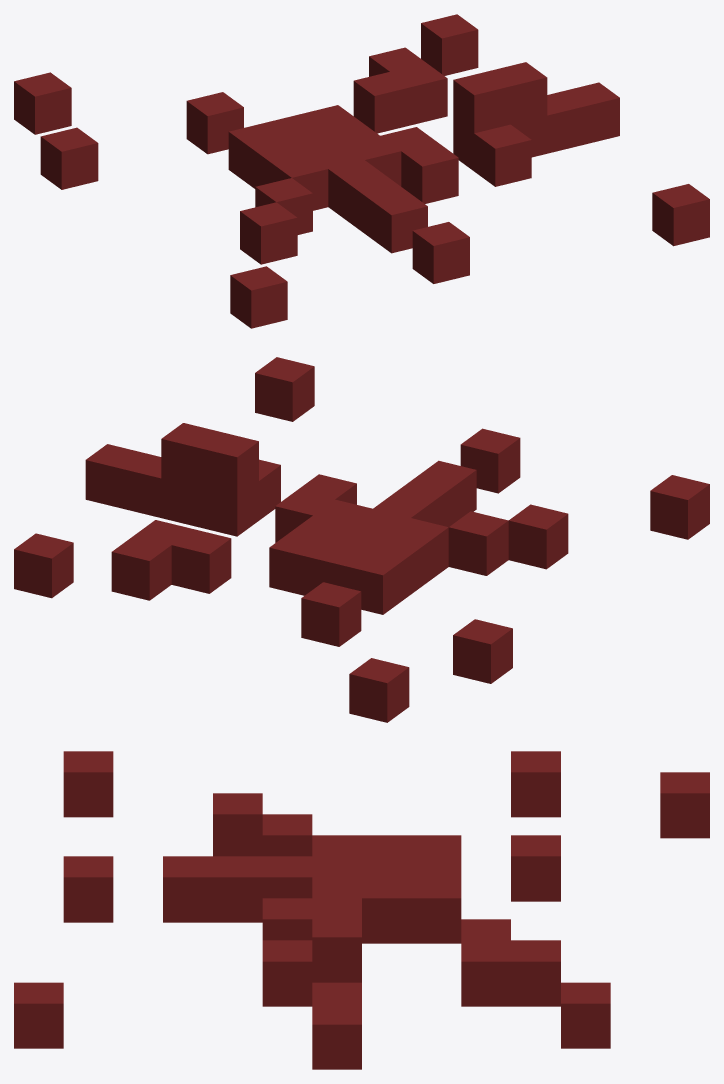
Rendered from blood_05.obj.
3 renders of one model, top to bottom at view 1: azimuth 30°, elevation 25°; view 2: azimuth 150°, elevation 25°; view 3: azimuth 270°, elevation 25°, orthographic. The views are drawn at different scales.
Visible parts, largest first — view 1: blood_05; view 2: blood_05; view 3: blood_05.
Boxes of the visible parts, x1=… form: blood_05: x1=14, y1=14, x2=709, y2=328; blood_05: x1=14, y1=357, x2=709, y2=722; blood_05: x1=14, y1=751, x2=709, y2=1069.
Size of the model in its own units: 13 by 2 by 14.
1 material, 1 textured.
